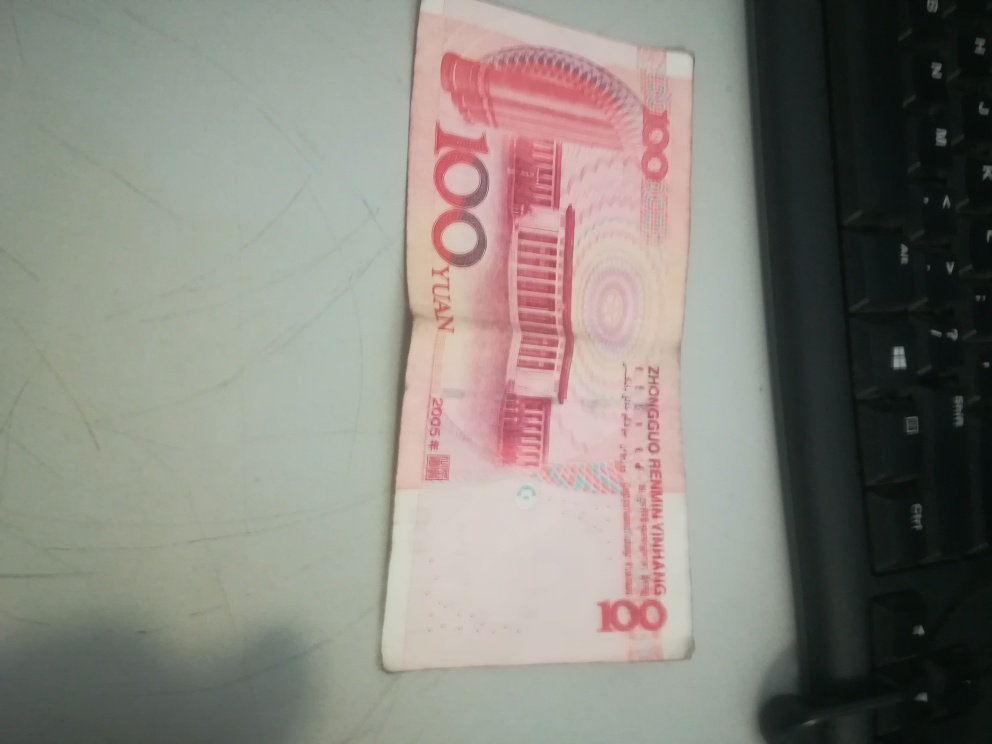rmb: (362, 3, 704, 672)
